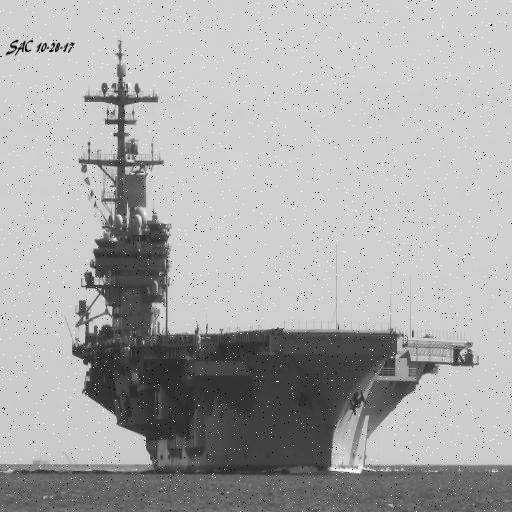Portanaves: (65, 39, 481, 486)
